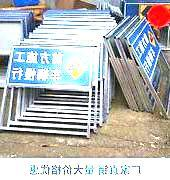sign: (10, 48, 90, 87), (137, 32, 158, 79)
